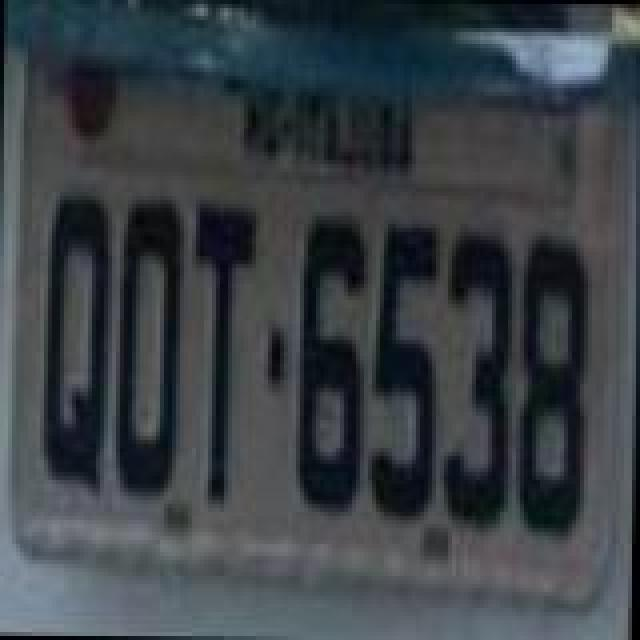3: (438, 222, 514, 534)
5: (368, 216, 444, 524)
6: (298, 208, 370, 520)
8: (514, 234, 590, 542)
O: (114, 194, 186, 506)
Q: (42, 190, 114, 506)
T: (188, 196, 256, 504)
